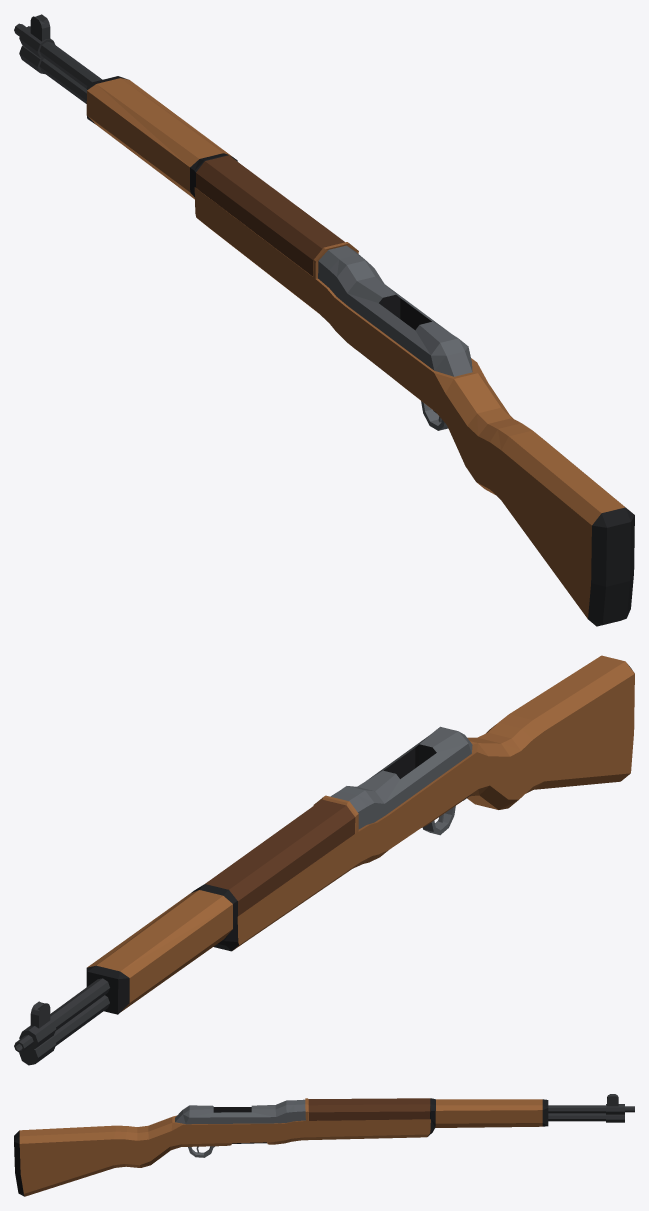
The model's file is Rifle.glb.
3 views of the same model, one above another, from view 1: azimuth 30°, elevation 25°; view 2: azimuth 150°, elevation 25°; view 3: azimuth 270°, elevation 25° (orthographic). The views are drawn at different scales.
Bounding box in the file's own units: 0.0393 × 0.1664 × 0.95.
Materials: 1 (1 with a texture image).
